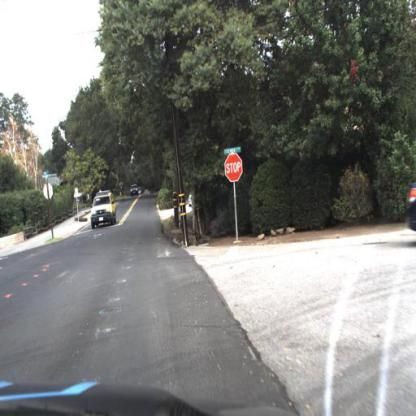car: (84, 187, 118, 227), (128, 185, 139, 199)
